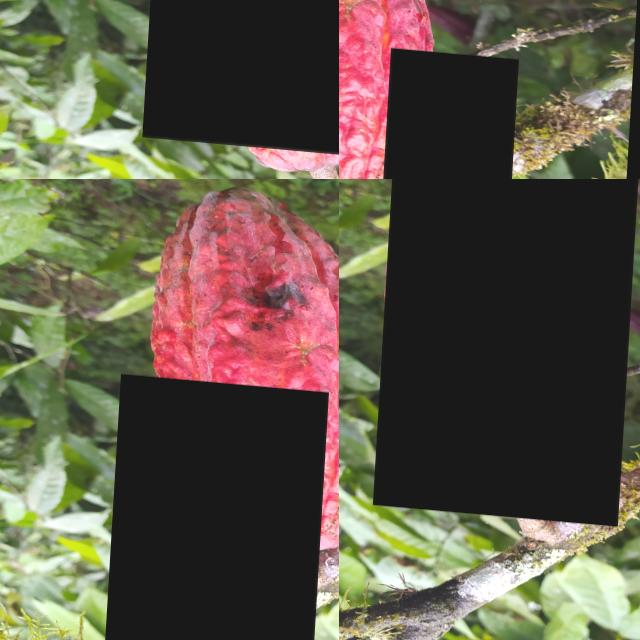Fitoftora: (378, 179, 640, 518), (147, 0, 339, 149), (383, 40, 522, 179)
Monilia: (78, 179, 300, 428)
Sana: (107, 370, 332, 640)
